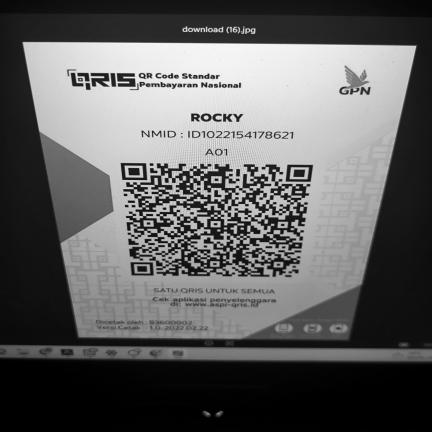Qris-Positioning: (24, 42, 415, 342)
